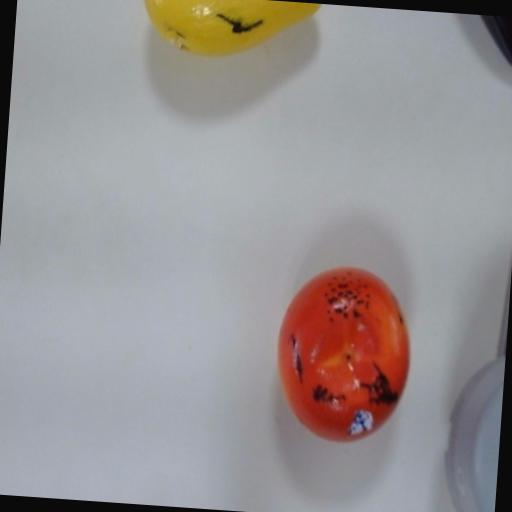Defective: (266, 256, 422, 457), (134, 0, 336, 71)
